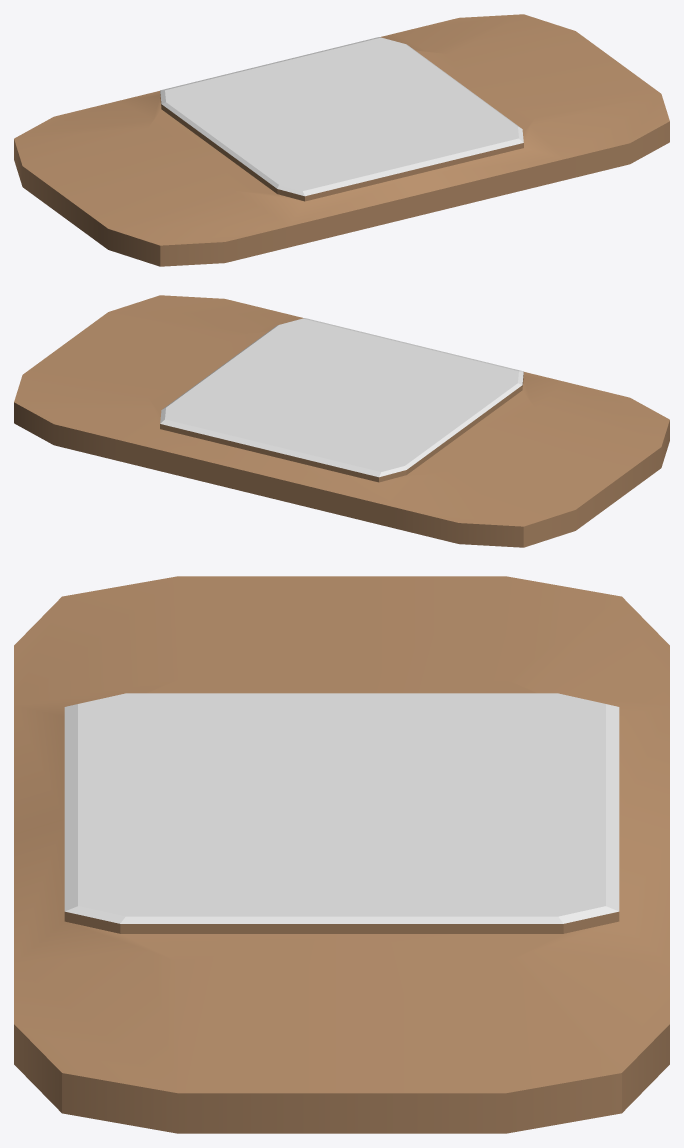
The model's file is Band Aid.fbx.
The picture shows the model from 3 angles, top to bottom: view 1: azimuth 30°, elevation 25°; view 2: azimuth 150°, elevation 25°; view 3: azimuth 270°, elevation 25°; orthographic projection. The views are drawn at different scales.
Visible parts, largest first — view 1: Band_Aid; view 2: Band_Aid; view 3: Band_Aid.
Boxes of the visible parts, box(x1,y1,x2,y2) form: Band_Aid: box(14, 14, 669, 266); Band_Aid: box(14, 295, 669, 547); Band_Aid: box(14, 576, 669, 1133).
Size of the model in its own units: 0.7548 by 0.0478 by 0.4047.
